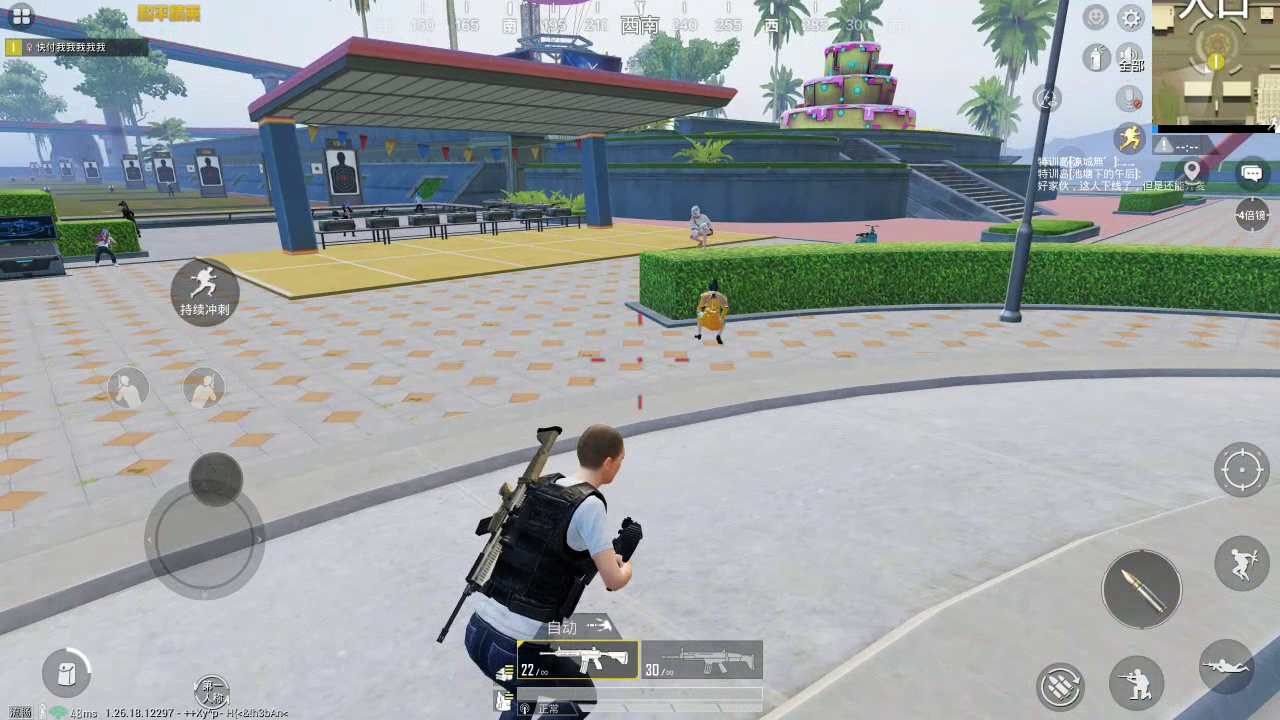enemy: (695, 277, 725, 344), (686, 204, 713, 249), (94, 227, 120, 266), (117, 200, 141, 238), (341, 200, 356, 237), (414, 190, 426, 214)
